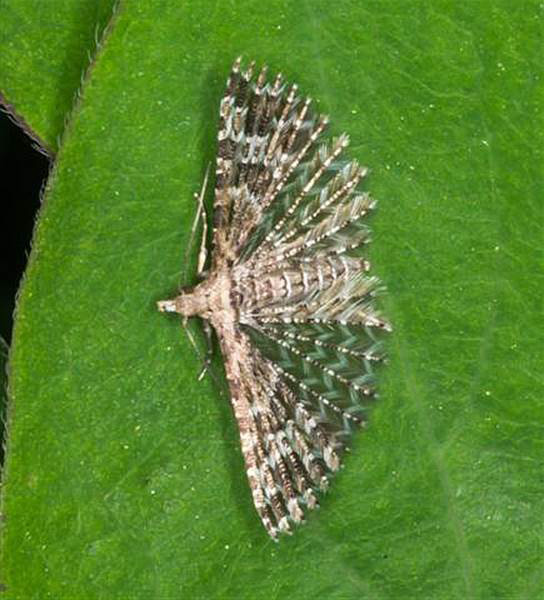Alucitidae: (152, 49, 396, 535)
moth: (154, 48, 398, 534)
